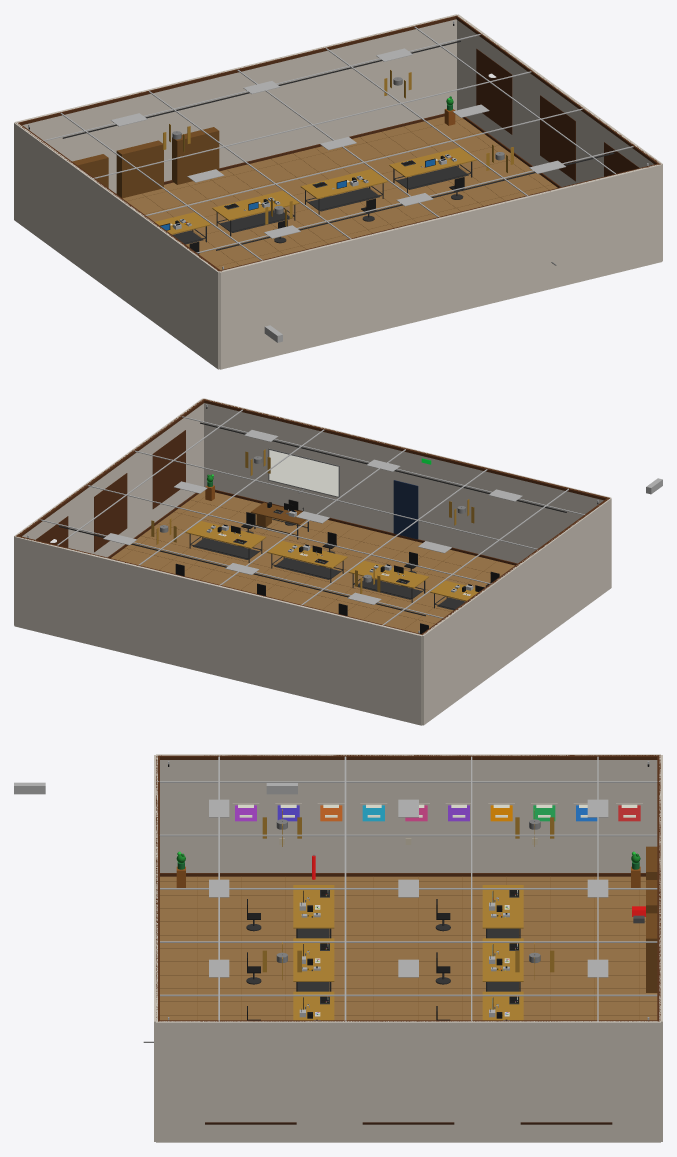
File: dld-lab.glb
3 views of the same model, one above another, from view 1: azimuth 30°, elevation 25°; view 2: azimuth 150°, elevation 25°; view 3: azimuth 270°, elevation 25° (orthographic). The views are drawn at different scales.
Size of the model in its own units: 20.21 by 4.36 by 20.56.
